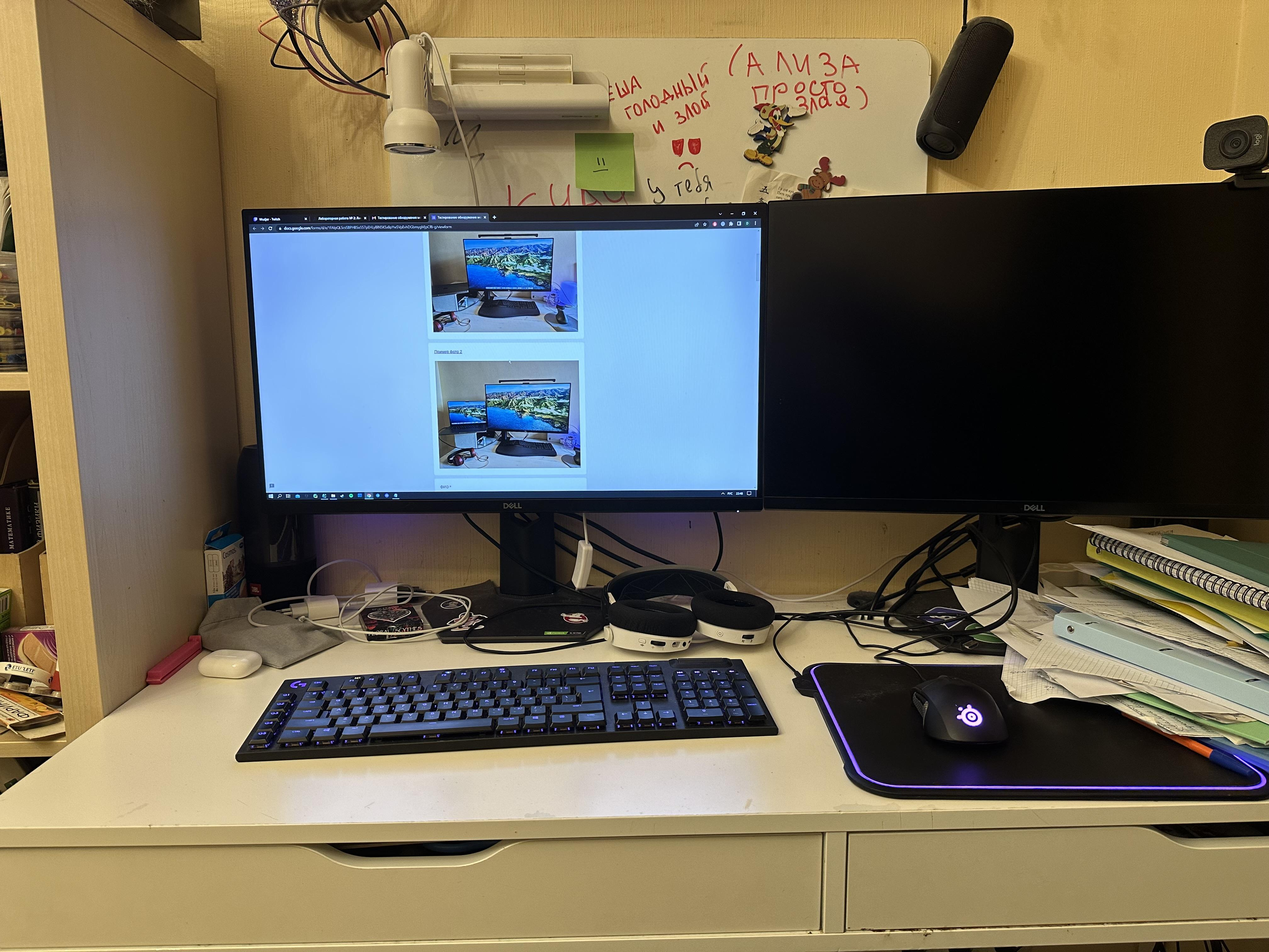monitor: (231, 192, 777, 626), (757, 194, 1269, 630)
